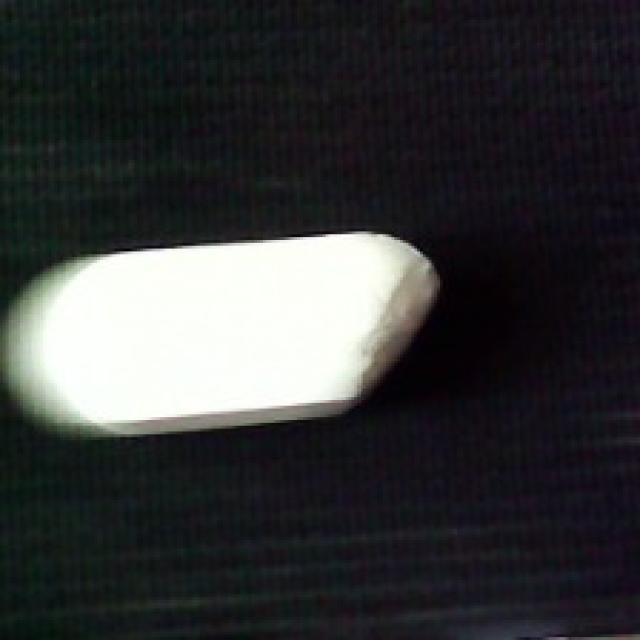defected: (0, 229, 449, 434)
